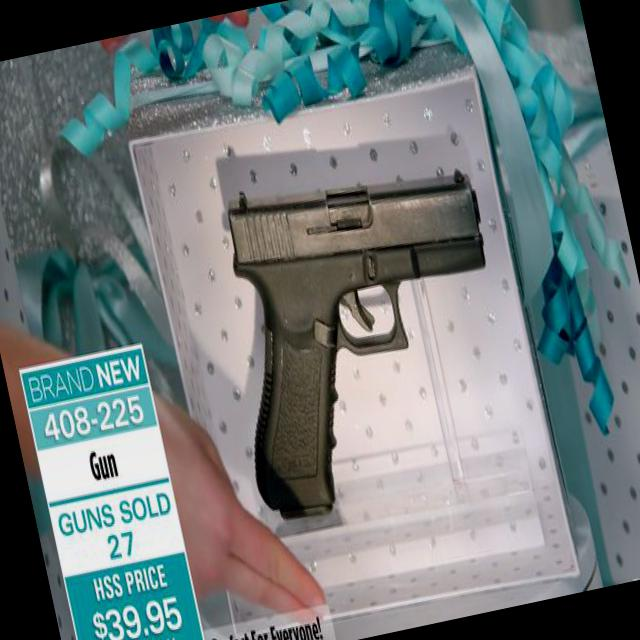handgun: (200, 146, 530, 518)
